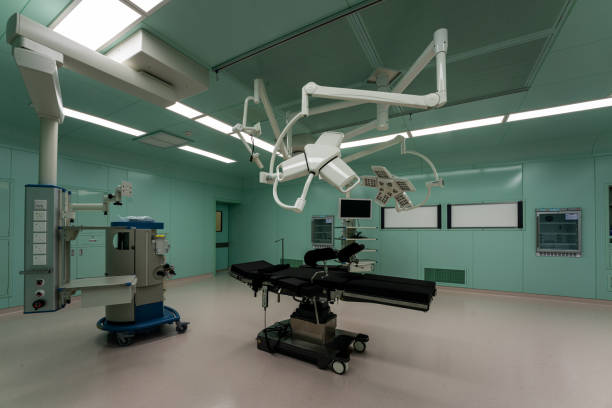bedside_monitor: (336, 198, 375, 221)
operating_bed: (227, 258, 438, 374)
surgical_light: (276, 130, 358, 193), (360, 163, 417, 216)
